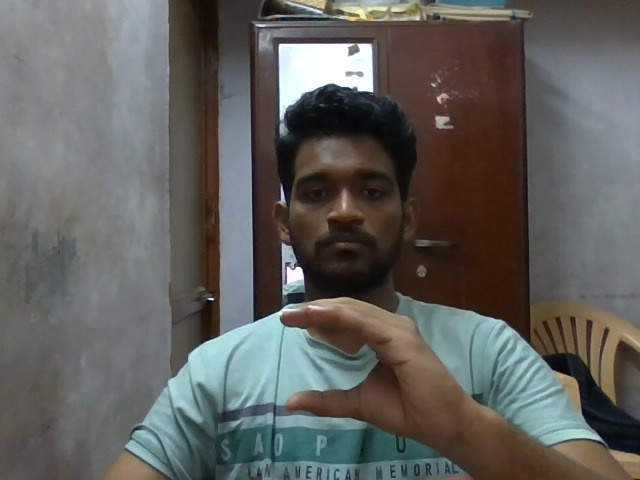C: (274, 290, 487, 460)
